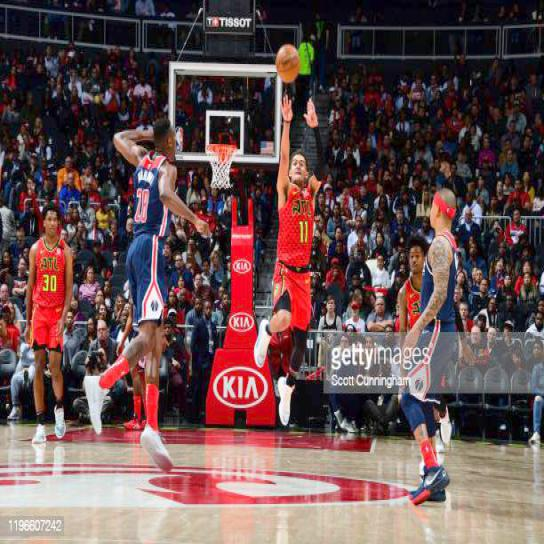basketball-hoop: (204, 137, 238, 191)
